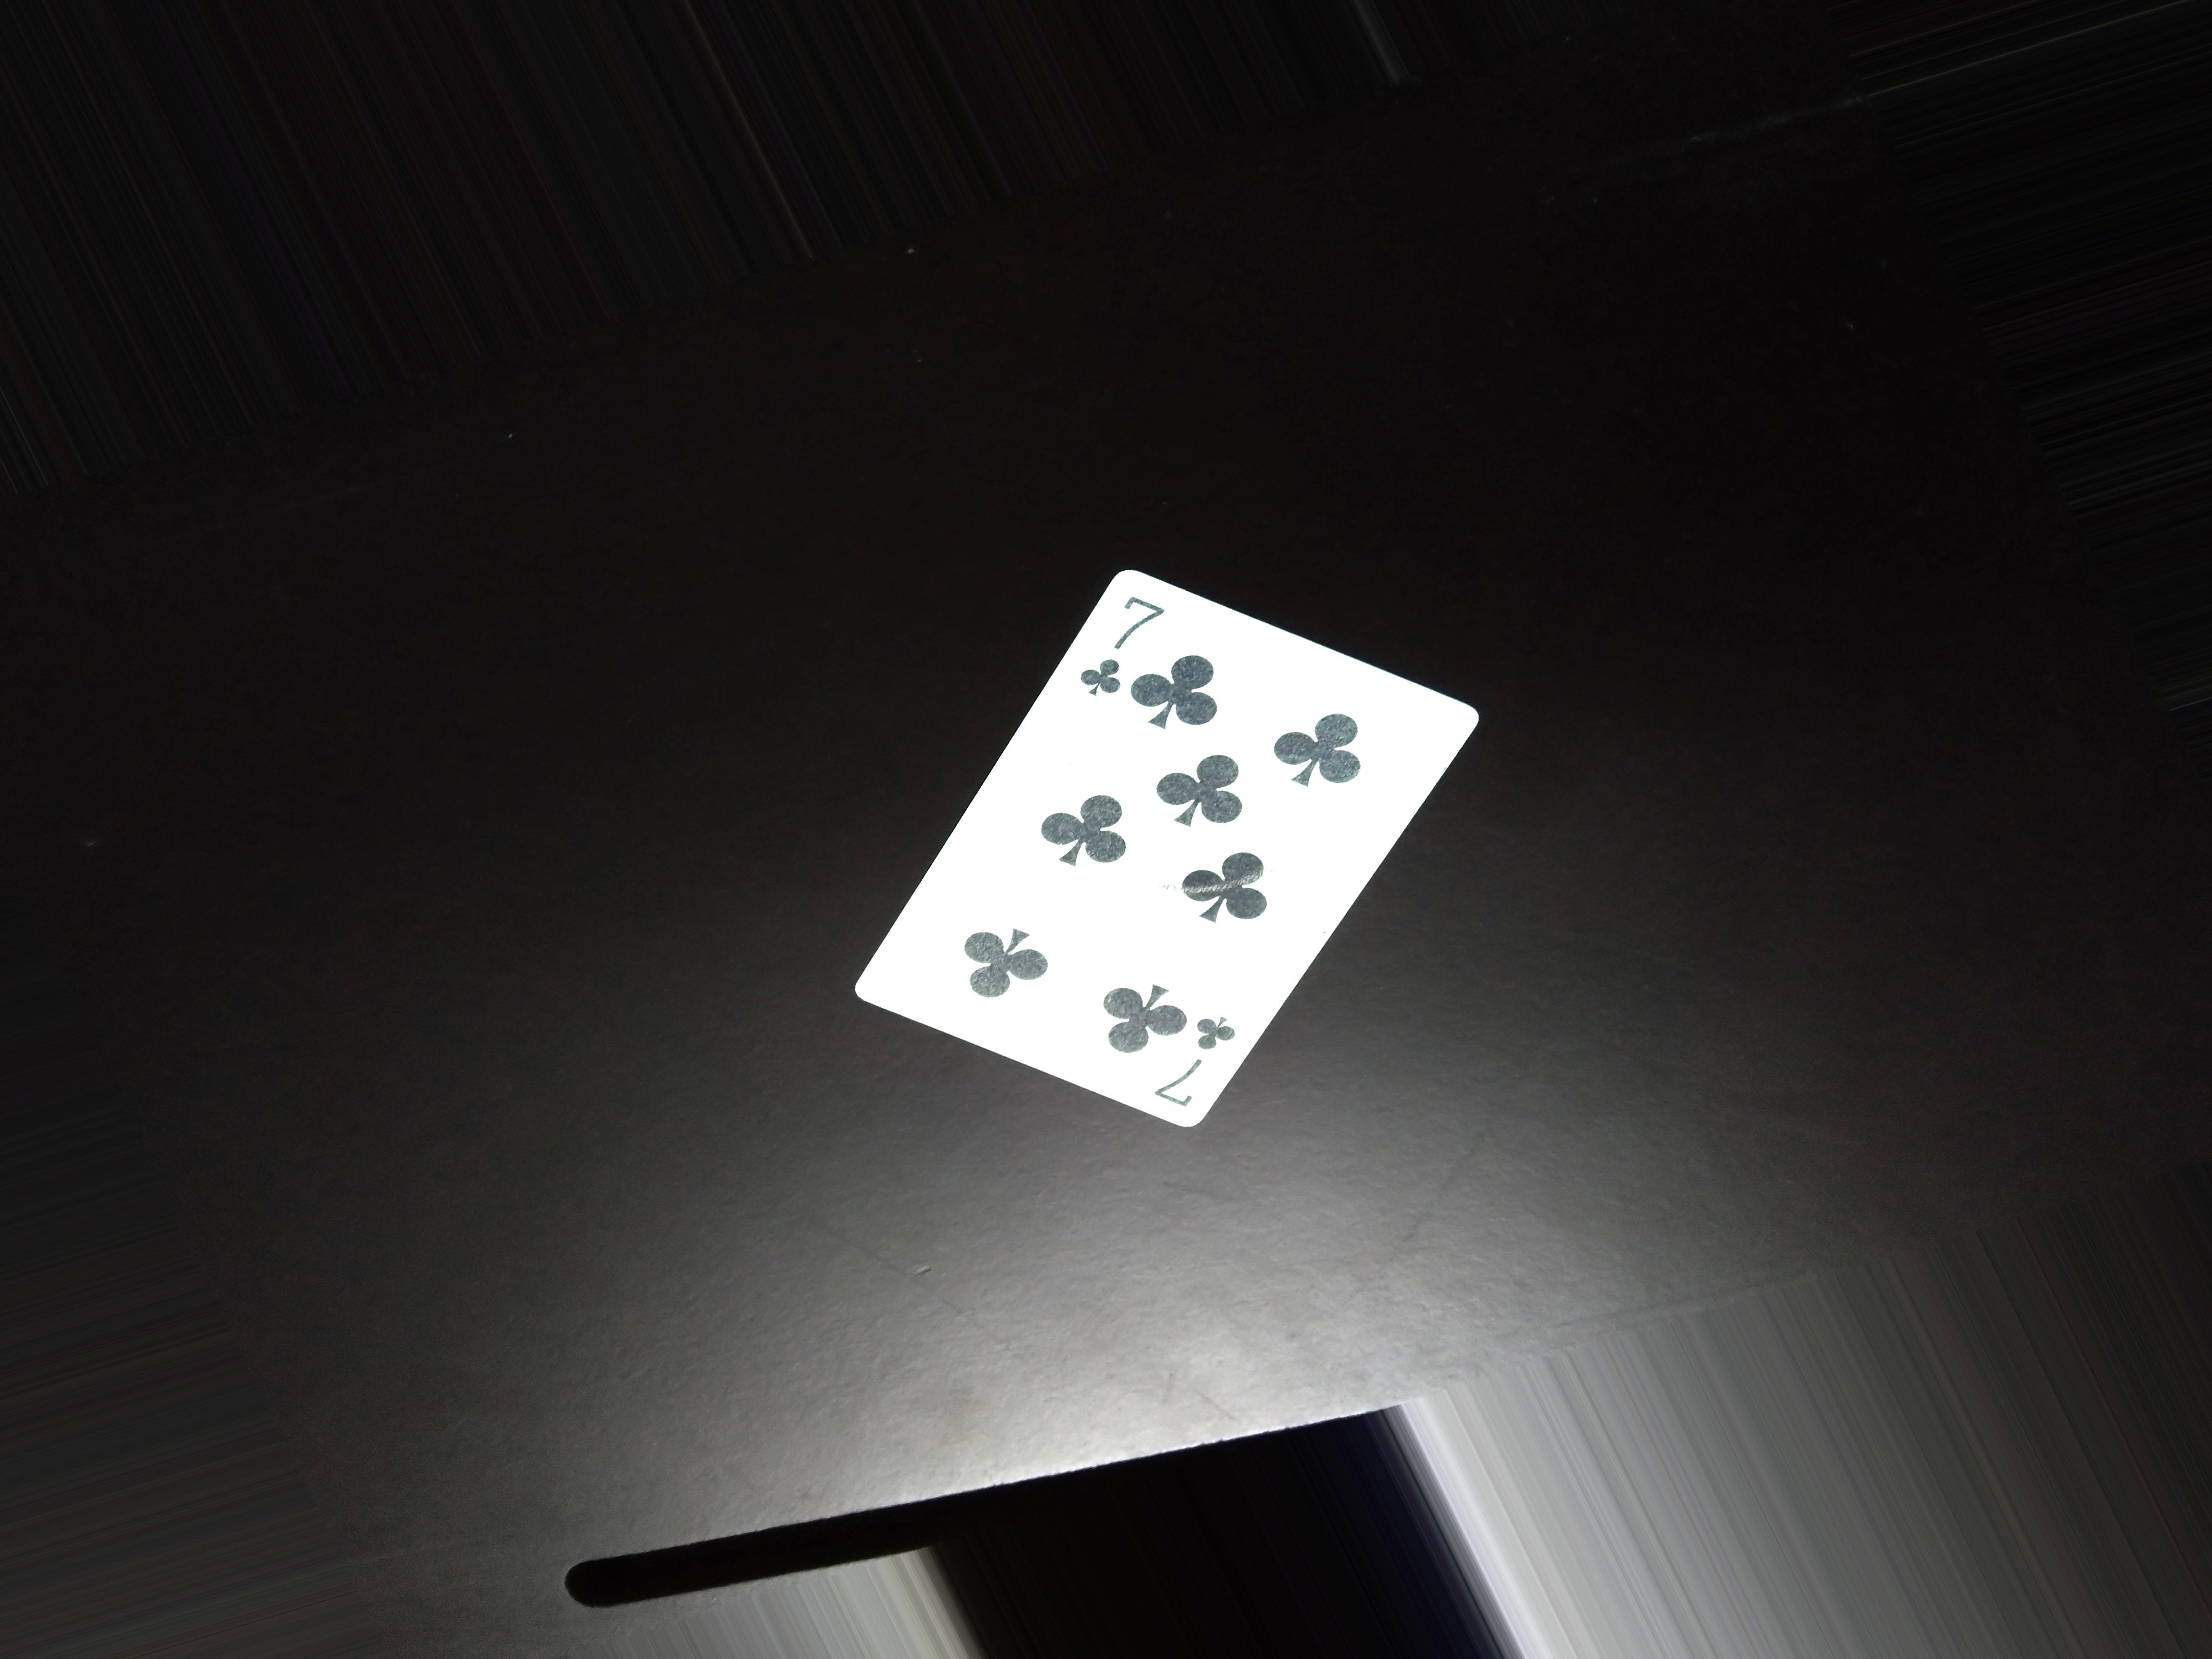7C: (1080, 575, 1162, 723)
